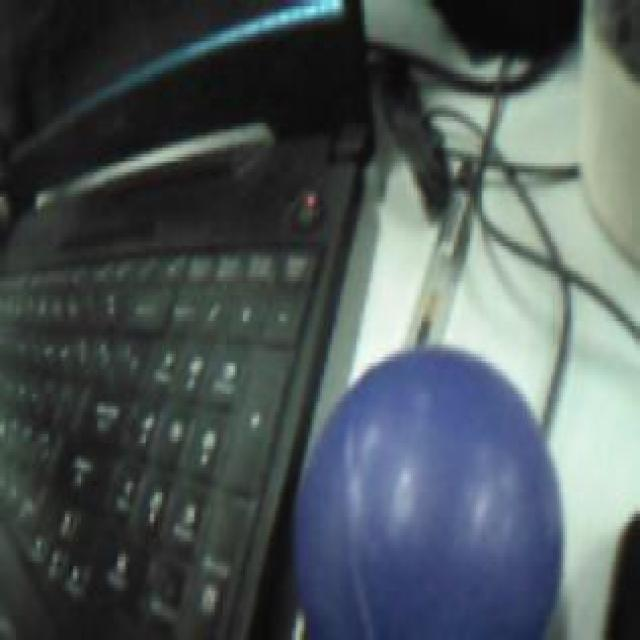BallPurple: (294, 346, 563, 640)
